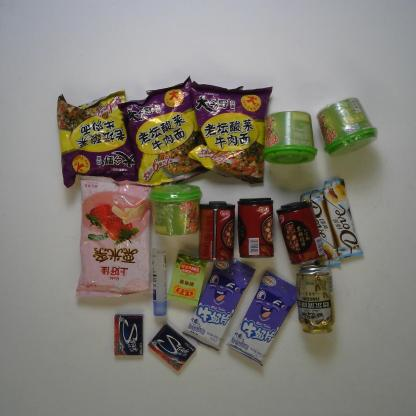Alcohol: (296, 268, 335, 336)
Candy: (185, 260, 255, 354), (228, 271, 295, 366), (170, 252, 209, 306)
Canned Food: (276, 201, 325, 267), (236, 195, 276, 261), (197, 200, 235, 262)
Chocolate: (322, 178, 363, 260), (302, 188, 340, 269)
Gum: (148, 323, 196, 372), (116, 311, 144, 359)
Instant Drink: (316, 96, 378, 157), (265, 109, 316, 167), (150, 184, 202, 237)
Instant Noodles: (117, 77, 209, 187), (189, 76, 273, 185), (56, 91, 138, 188)
Puffed Food: (76, 176, 154, 300)
Stationery: (152, 247, 170, 316)
